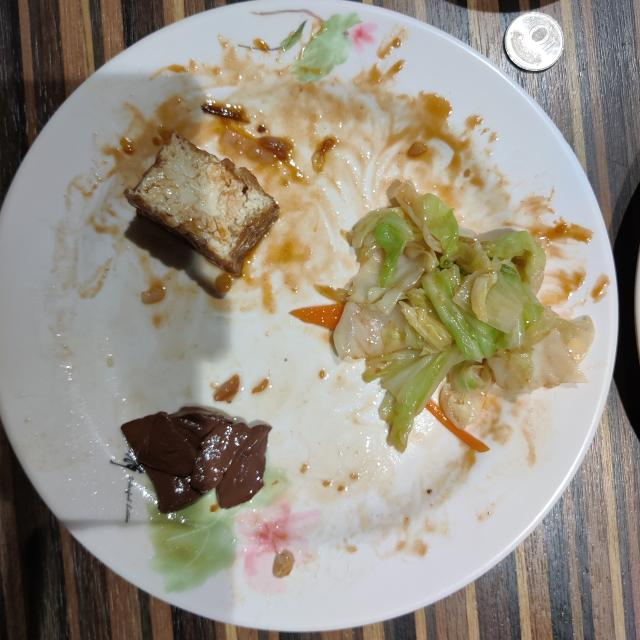cabbage: (334, 181, 594, 451)
coin: (505, 12, 564, 71)
egg tofu: (124, 131, 280, 276)
pig blood curd: (121, 406, 271, 512)
